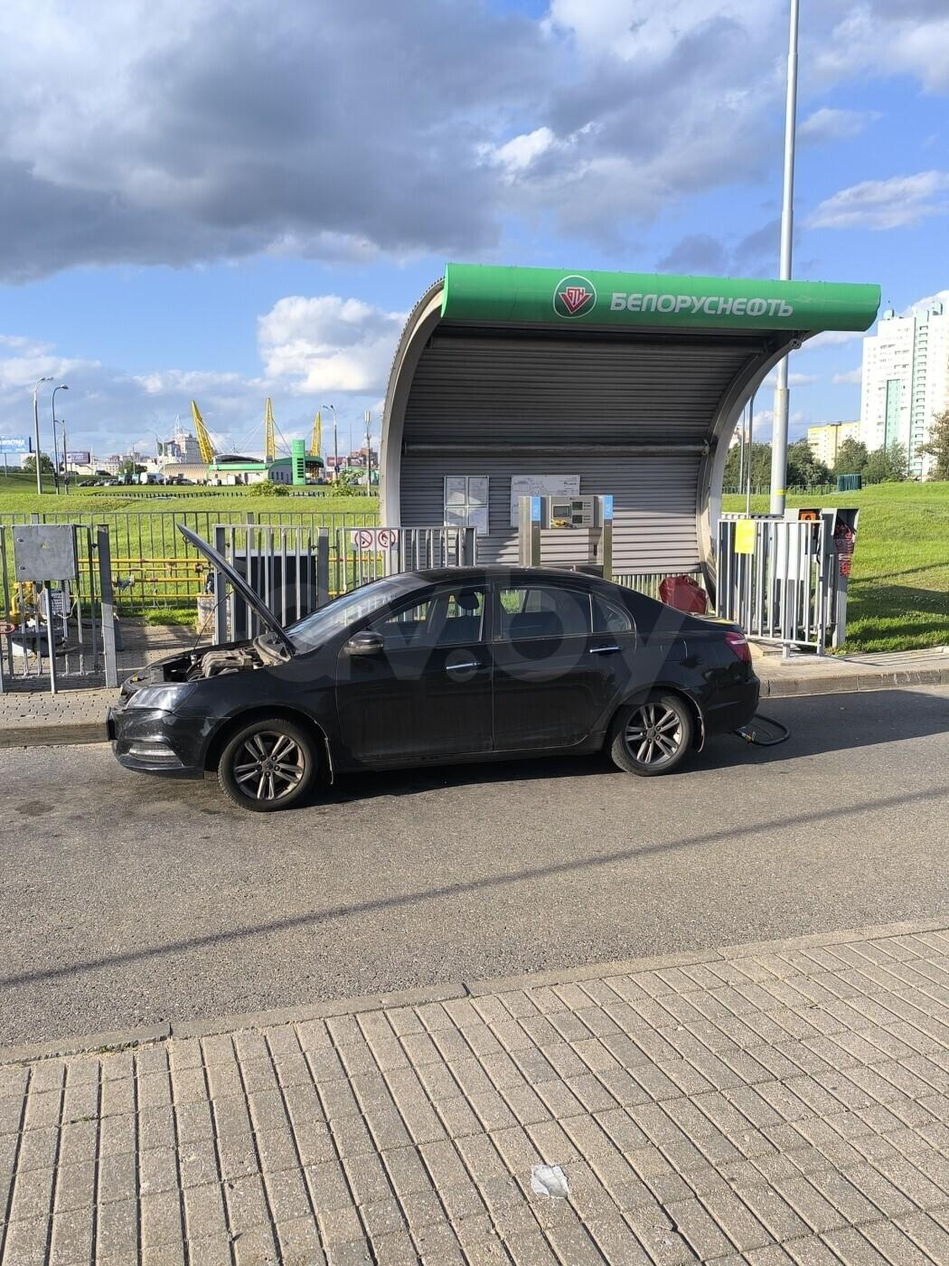Emgrand_2019-2021: (107, 532, 758, 812)
